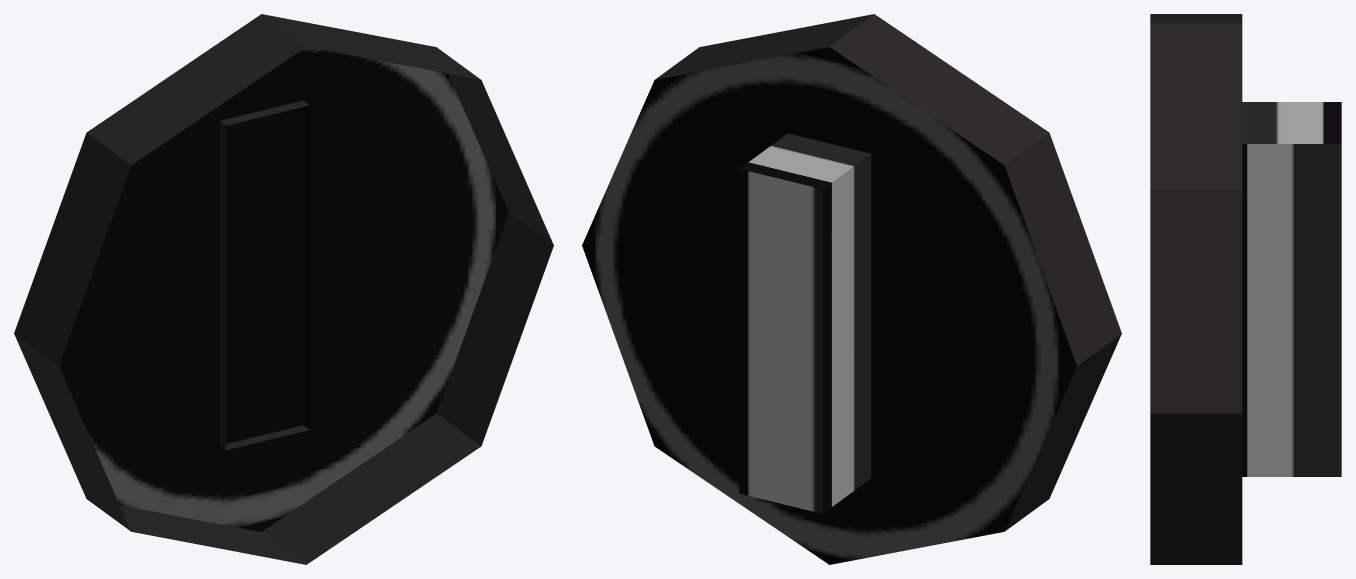
File: Oven_Switch.fbx
3 renders of one model, left to right at view 1: azimuth 30°, elevation 25°; view 2: azimuth 150°, elevation 25°; view 3: azimuth 270°, elevation 25°, orthographic. The views are drawn at different scales.
Parts seen in each view (by area): view 1: Stove_Switch; view 2: Stove_Switch; view 3: Stove_Switch.
Boxes of the visible parts, x1,y1,x2,y2 form: Stove_Switch: [14, 14, 553, 564]; Stove_Switch: [582, 14, 1121, 564]; Stove_Switch: [1150, 14, 1341, 564].
Bounding box in the file's own units: 17.3 × 17.3 × 5.65.
